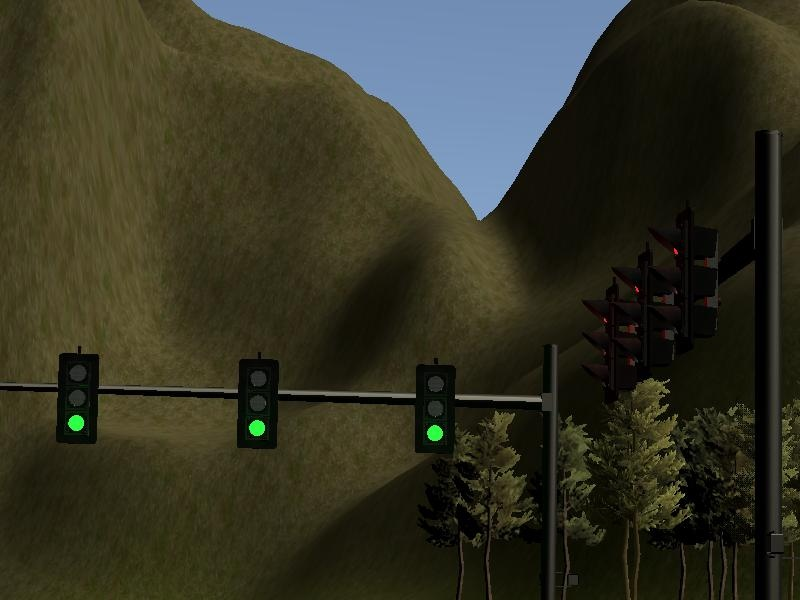GREEN: (57, 353, 97, 444), (237, 357, 277, 448), (415, 363, 455, 454)
